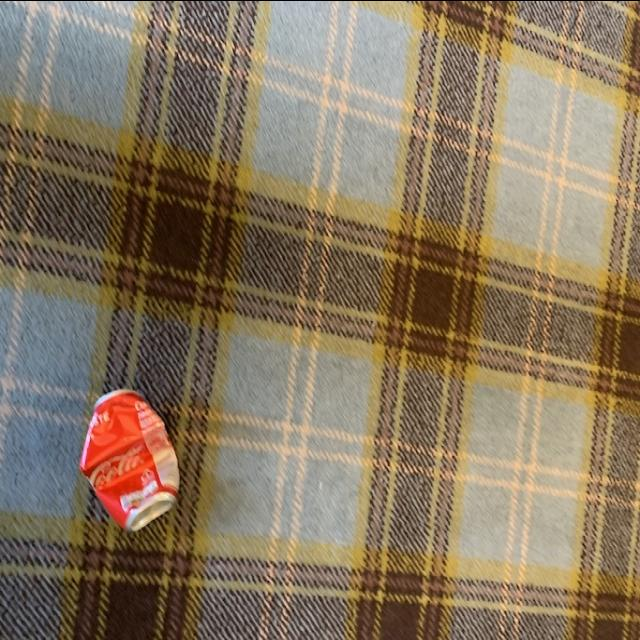litter: (80, 378, 186, 528)
